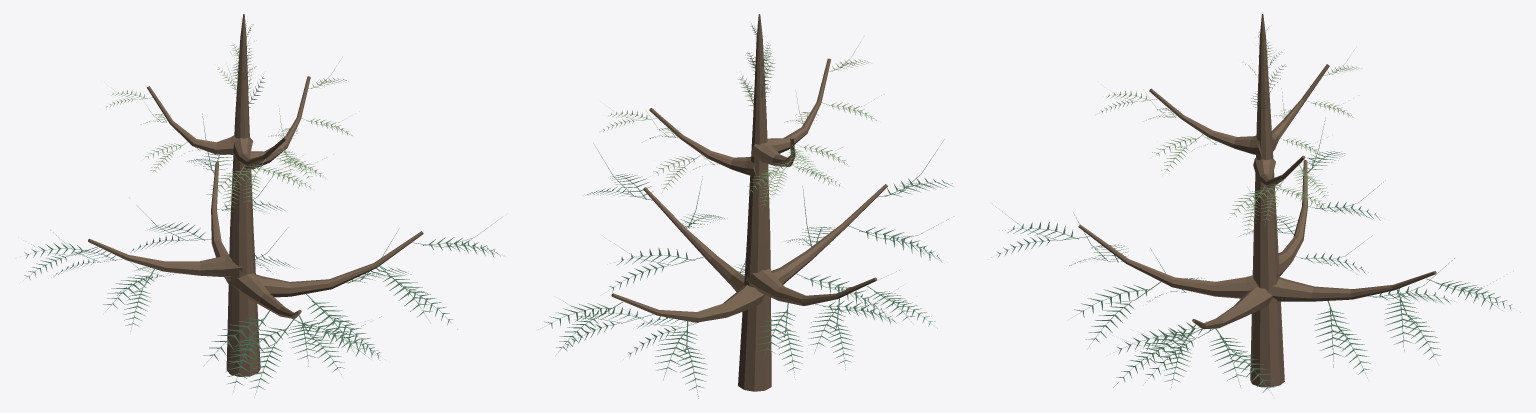
File: conifer-upper.glb
3 views of the same model, side by side, from view 1: azimuth 30°, elevation 25°; view 2: azimuth 150°, elevation 25°; view 3: azimuth 270°, elevation 25° (orthographic). The views are drawn at different scales.
Parts seen in each view (by area): view 1: Unchanged r12 wood excerpt, Original thin needle surfaces | b-feather; view 2: Unchanged r12 wood excerpt, Original thin needle surfaces | b-feather; view 3: Unchanged r12 wood excerpt, Original thin needle surfaces | b-feather.
Part boxes in pixels (left/top/right/bottom): Unchanged r12 wood excerpt: left=88, top=14, right=423, bottom=376; Original thin needle surfaces | b-feather: left=24, top=19, right=500, bottom=397; Unchanged r12 wood excerpt: left=611, top=14, right=887, bottom=391; Original thin needle surfaces | b-feather: left=538, top=23, right=953, bottom=398; Unchanged r12 wood excerpt: left=1078, top=14, right=1436, bottom=387; Original thin needle surfaces | b-feather: left=991, top=27, right=1520, bottom=394.
Bounding box in the file's own units: 2.48 × 2.03 × 2.69.
